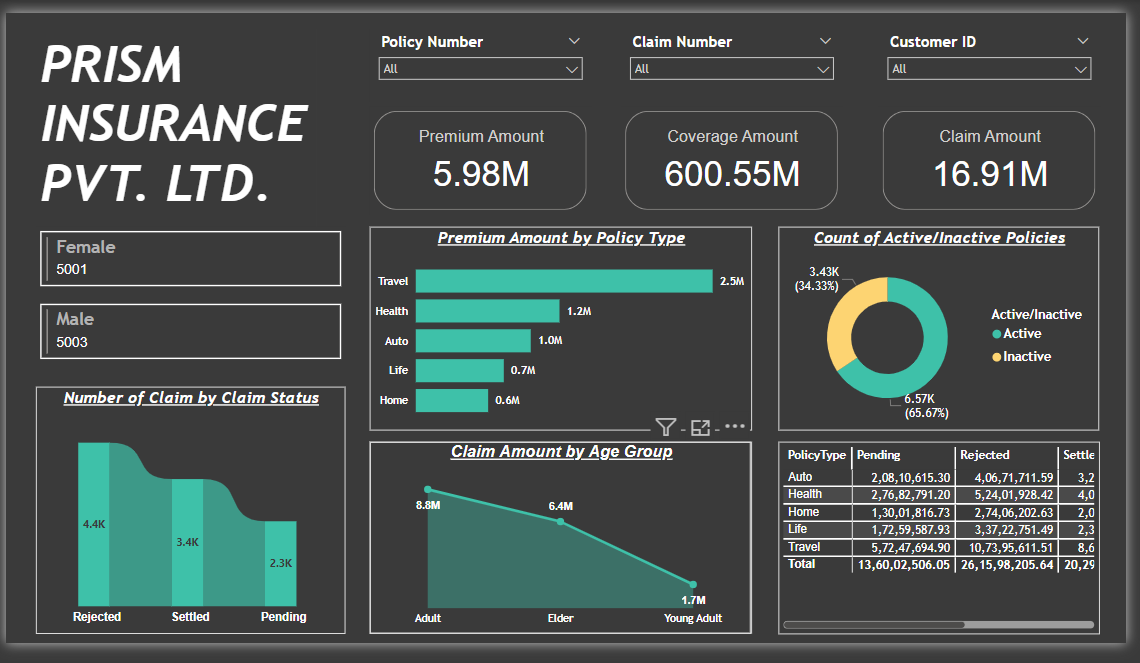

This screenshot's page, from the dashboard's own definition file:
{"tool":"powerbi","page":{"name":"Page 1","canvas":[1280,720],"ordinal":0},"visuals":[{"type":"slicer","fields":{"Values":["InsuranceData.PolicyNumber"]},"box":[415,18.1,253.4,82],"z":0},{"type":"slicer","fields":{"Values":["InsuranceData.ClaimNumber"]},"box":[703.4,18.1,253.4,82],"z":1000},{"type":"slicer","fields":{"Values":["InsuranceData.CustomerID"]},"box":[996.5,18.1,253.4,82],"z":2000},{"type":"textbox","box":[33.8,18.1,320.9,300.4],"z":3000},{"type":"cardVisual","fields":{"Data":["Sum(InsuranceData.PremiumAmount)"]},"box":[415,107.4,253.4,123.1],"z":4000},{"type":"cardVisual","fields":{"Data":["Sum(InsuranceData.CoverageAmount)"]},"box":[703.4,107.4,253.4,123.1],"z":5000},{"type":"cardVisual","fields":{"Data":["Sum(InsuranceData.ClaimAmount)"]},"box":[996.5,107.4,253.4,123.1],"z":6000},{"type":"multiRowCard","fields":{"Values":["InsuranceData.Gender","CountNonNull(InsuranceData.Gender)"]},"box":[33.8,244.9,353.5,182.2],"z":7000},{"type":"ribbonChart","title":"Number of Claim by Claim Status","fields":{"Category":["InsuranceData.ClaimStatus"],"Y":["CountNonNull(InsuranceData.ClaimStatus)"]},"box":[33.8,427.1,353.5,282.3],"z":8000},{"type":"barChart","title":"Premium Amount by Policy Type","fields":{"Y":["Sum(InsuranceData.PremiumAmount)"],"Category":["InsuranceData.PolicyType"]},"box":[415,244.9,436.7,232.8],"z":9000},{"type":"lineChart","title":"Claim Amount by Age Group","fields":{"Category":["InsuranceData.Age Group"],"Y":["Sum(InsuranceData.ClaimAmount)"]},"box":[415,489.8,436.7,219.6],"z":10000},{"type":"donutChart","title":"Count of Active/Inactive Policies","fields":{"Category":["InsuranceData.Active/Inactive"],"Y":["CountNonNull(InsuranceData.Active/Inactive)"]},"box":[883.1,244.9,366.8,232.8],"z":10001},{"type":"pivotTable","fields":{"Rows":["InsuranceData.PolicyType"],"Columns":["InsuranceData.ClaimStatus"],"Values":["Sum(InsuranceData.CoverageAmount)"]},"box":[883,490,367,220],"z":10002}]}

Visuals, with their boxes on the page's 1280x720 design canvas (x1, y1, x2, y2). These are canvas units, not pixel positions in the 1140x663 screenshot, which may show the page scaled, cropped or inside an application window:
slicer - InsuranceData.PolicyNumber: box=[415, 18, 668, 100]
slicer - InsuranceData.ClaimNumber: box=[703, 18, 957, 100]
slicer - InsuranceData.CustomerID: box=[996, 18, 1250, 100]
textbox: box=[34, 18, 355, 318]
cardVisual - Sum(InsuranceData.PremiumAmount): box=[415, 107, 668, 230]
cardVisual - Sum(InsuranceData.CoverageAmount): box=[703, 107, 957, 230]
cardVisual - Sum(InsuranceData.ClaimAmount): box=[996, 107, 1250, 230]
multiRowCard - InsuranceData.Gender x CountNonNull(InsuranceData.Gender): box=[34, 245, 387, 427]
"Number of Claim by Claim Status" ribbonChart: box=[34, 427, 387, 709]
"Premium Amount by Policy Type" barChart: box=[415, 245, 852, 478]
"Claim Amount by Age Group" lineChart: box=[415, 490, 852, 709]
"Count of Active/Inactive Policies" donutChart: box=[883, 245, 1250, 478]
pivotTable - InsuranceData.PolicyType x InsuranceData.ClaimStatus: box=[883, 490, 1250, 710]
